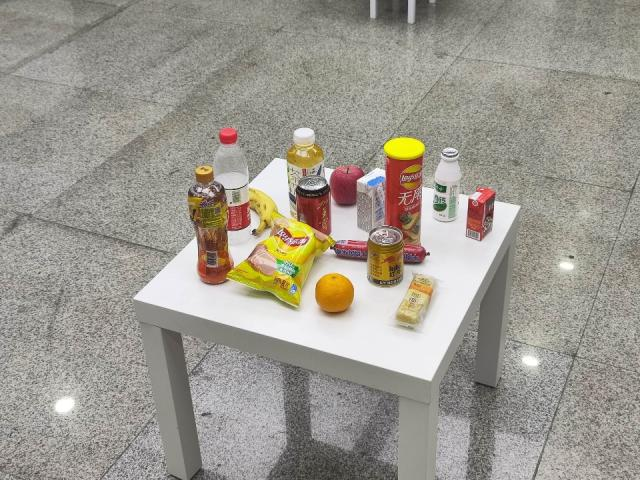Canned_drinks: (365, 224, 399, 288), (298, 176, 333, 234)
bottle: (186, 163, 232, 288), (434, 146, 460, 221)
drink_box: (467, 184, 493, 240)
